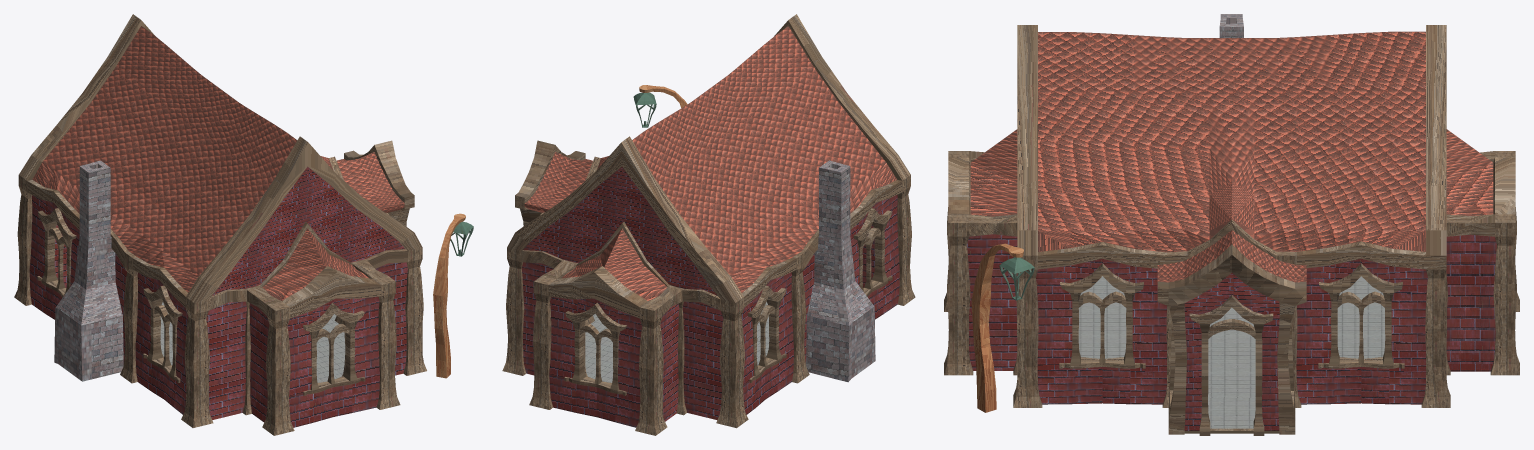
File: Fantasy_House.dae
The picture shows the model from 3 angles, left to right: view 1: azimuth 30°, elevation 25°; view 2: azimuth 150°, elevation 25°; view 3: azimuth 270°, elevation 25°; orthographic projection. The views are drawn at different scales.
Visible parts, largest first — view 1: House, Laterne; view 2: House, Laterne; view 3: House, Laterne.
Boxes of the visible parts, x1,y1,x2,y2 form: House: (14,14,426,435); Laterne: (433,213,473,378); House: (502,14,915,435); Laterne: (633,85,687,127); House: (944,14,1519,435); Laterne: (971,243,1034,412).
Size of the model in its own units: 15.93 by 20.01 by 12.06.
9 materials, 8 textured.
